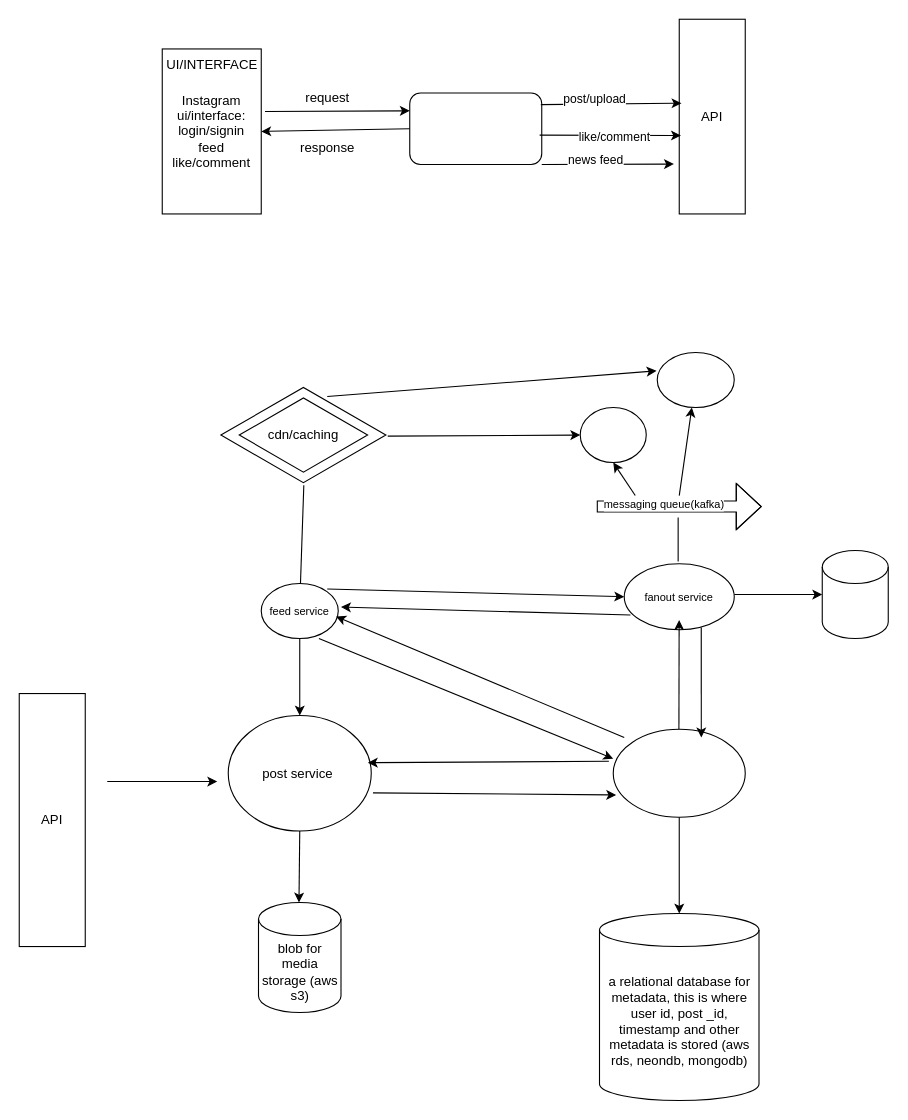
This 908x1120 diagram has some shape labels left out. Each missing label, with the box of its shape:
API GATEWAY: (409, 92, 542, 164)
comment: (579, 406, 646, 463)
like: (656, 351, 734, 408)
metadata service: (612, 728, 745, 817)
